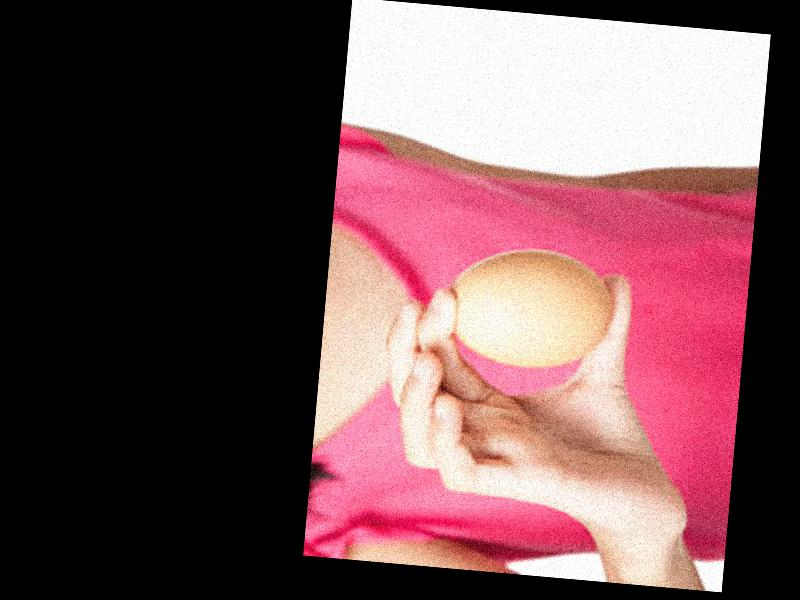Eggs: (440, 243, 615, 373)
